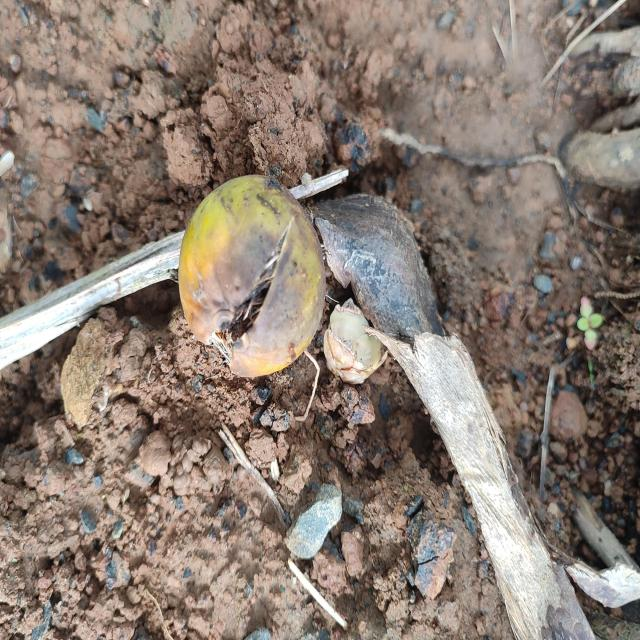damaged: (179, 175, 325, 377)
